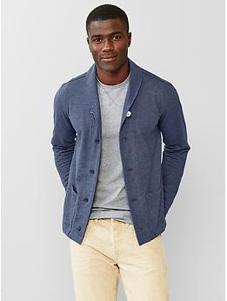S_cardigan sweater: (40, 54, 189, 240)
